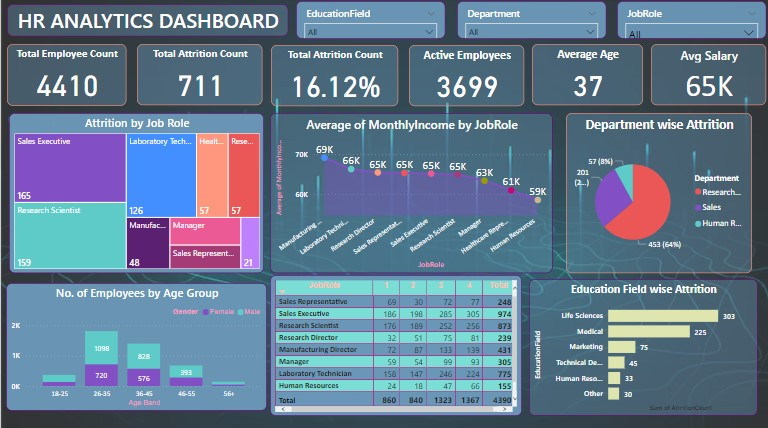

What the dashboard file says about the page in this screenshot:
{"tool":"powerbi","page":{"name":"Page 1","canvas":[1280,720],"ordinal":0},"visuals":[{"type":"card","title":"Total Employee Count","fields":{"Values":["Sum(general_data.EmployeeCount)"]},"box":[10.5,76.7,198.8,102.9],"z":0},{"type":"card","title":"Total Attrition Count","fields":{"Values":["Sum(general_data.AttritionCount)"]},"box":[226.9,77.1,209.5,101.8],"z":1000},{"type":"card","title":"Total Attrition Count","fields":{"Values":["general_data.AttritionRate"]},"box":[449.5,78.5,212.4,101.8],"z":2000},{"type":"card","title":"Active Employees","fields":{"Values":["general_data.ActiveEmp"]},"box":[679.3,78.5,192,101.8],"z":3000},{"type":"card","title":"Average Age","fields":{"Values":["Avg(general_data.Age)"]},"box":[885.8,77.1,184.7,101.8],"z":4000},{"type":"pieChart","title":"Department wise Attrition","fields":{"Y":["Sum(general_data.AttritionCount)"],"Category":["general_data.Department"]},"box":[942.4,191.8,310,266.9],"z":5000},{"type":"barChart","title":"Education Field wise Attrition","fields":{"Category":["general_data.EducationField"],"Y":["Sum(general_data.AttritionCount)"]},"box":[879.8,468.4,380.8,228],"z":6000},{"type":"stackedAreaChart","fields":{"Category":["general_data.JobRole"],"Y":["Avg(general_data.MonthlyIncome)"]},"box":[449,191.8,471.2,266.9],"z":7000},{"type":"pivotTable","fields":{"Rows":["general_data.JobRole"],"Columns":["employee_survey_data.JobSatisfaction"],"Values":["Sum(general_data.EmployeeCount)"]},"box":[449,461.5,419.8,234.9],"z":8000},{"type":"treemap","title":" Attrition by Job Role","fields":{"Values":["Sum(general_data.AttritionCount)"],"Group":["general_data.JobRole"]},"box":[13.9,191.8,425.3,266.9],"z":9000},{"type":"columnChart","title":"No. of Employees by Age Group","fields":{"Category":["general_data.Age Band"],"Y":["Sum(general_data.EmployeeCount)"],"Series":["general_data.Gender"]},"box":[8.3,475.4,435.1,212.7],"z":10000},{"type":"textbox","title":"HR ANALYTICS DASHBOARD","box":[10.5,10.5,469.1,54.1],"z":11000},{"type":"slicer","fields":{"Values":["general_data.JobRole"]},"box":[1026.9,5.8,248.7,62.5],"z":12000},{"type":"slicer","fields":{"Values":["general_data.EducationField"]},"box":[491.6,5.8,248.7,62.5],"z":13000},{"type":"slicer","fields":{"Values":["general_data.Department"]},"box":[760.7,5.8,248.7,62.5],"z":14000},{"type":"card","title":"Avg Salary","fields":{"Values":["Avg(general_data.MonthlyIncome)"]},"box":[1083.6,77.1,192,101.8],"z":15000}]}

Visuals, with their boxes in screenshot pixels (x1, y1, x2, y2), scaled from the page's 1280x720 canvas onto the 768x428 screenshot:
"Total Employee Count" card: [left=6, top=46, right=126, bottom=107]
"Total Attrition Count" card: [left=136, top=46, right=262, bottom=106]
"Total Attrition Count" card: [left=270, top=47, right=397, bottom=107]
"Active Employees" card: [left=408, top=47, right=523, bottom=107]
"Average Age" card: [left=531, top=46, right=642, bottom=106]
"Department wise Attrition" pieChart: [left=565, top=114, right=751, bottom=273]
"Education Field wise Attrition" barChart: [left=528, top=278, right=756, bottom=414]
stackedAreaChart - general_data.JobRole x Avg(general_data.MonthlyIncome): [left=269, top=114, right=552, bottom=273]
pivotTable - general_data.JobRole x employee_survey_data.JobSatisfaction: [left=269, top=274, right=521, bottom=414]
" Attrition by Job Role" treemap: [left=8, top=114, right=264, bottom=273]
"No. of Employees by Age Group" columnChart: [left=5, top=283, right=266, bottom=409]
"HR ANALYTICS DASHBOARD" textbox: [left=6, top=6, right=288, bottom=38]
slicer - general_data.JobRole: [left=616, top=3, right=765, bottom=41]
slicer - general_data.EducationField: [left=295, top=3, right=444, bottom=41]
slicer - general_data.Department: [left=456, top=3, right=606, bottom=41]
"Avg Salary" card: [left=650, top=46, right=765, bottom=106]
